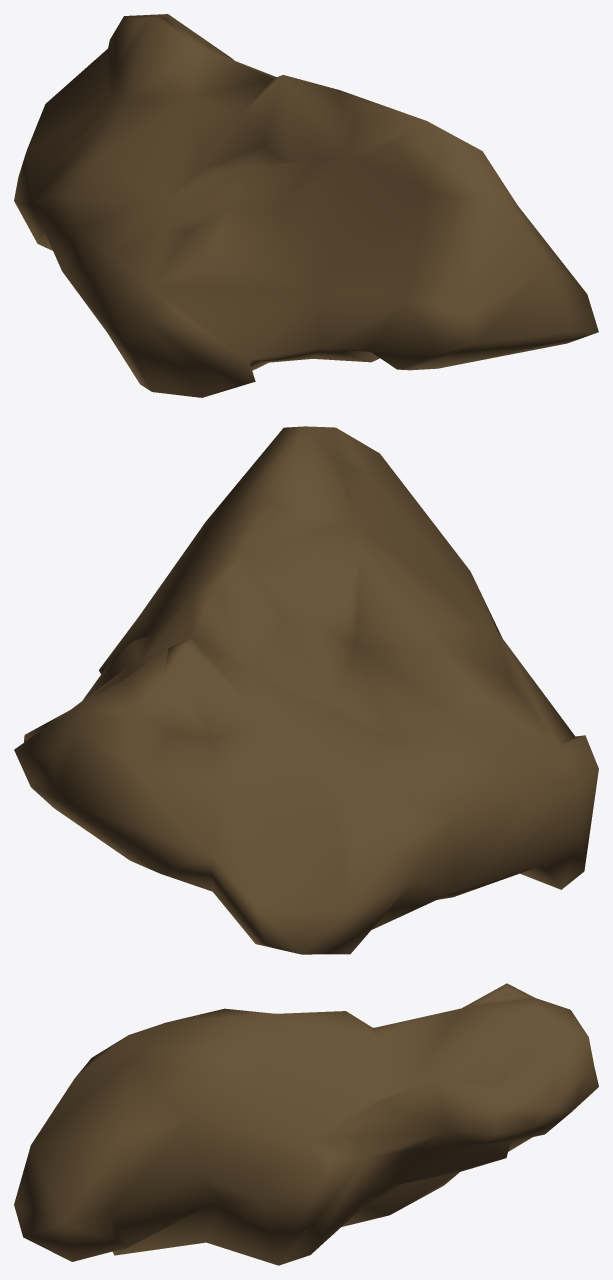
File: BoulderSlab.far.gltf
3 renders of one model, top to bottom at view 1: azimuth 30°, elevation 25°; view 2: azimuth 150°, elevation 25°; view 3: azimuth 270°, elevation 25°, orthographic. The views are drawn at different scales.
Visible parts, largest first — view 1: lo; view 2: lo; view 3: lo.
Part boxes in pixels (<box>): lo: <box>14,14,598,397</box>; lo: <box>14,426,598,954</box>; lo: <box>14,983,598,1265</box>.
Size of the model in its own units: 2.63 by 1.7 by 3.93.
